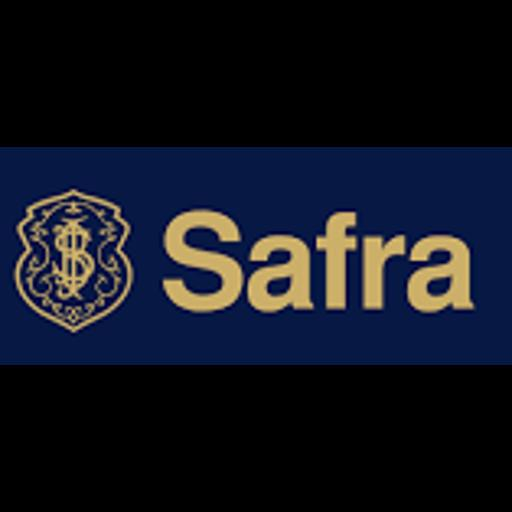Banco Safra: (0, 147, 512, 365)
